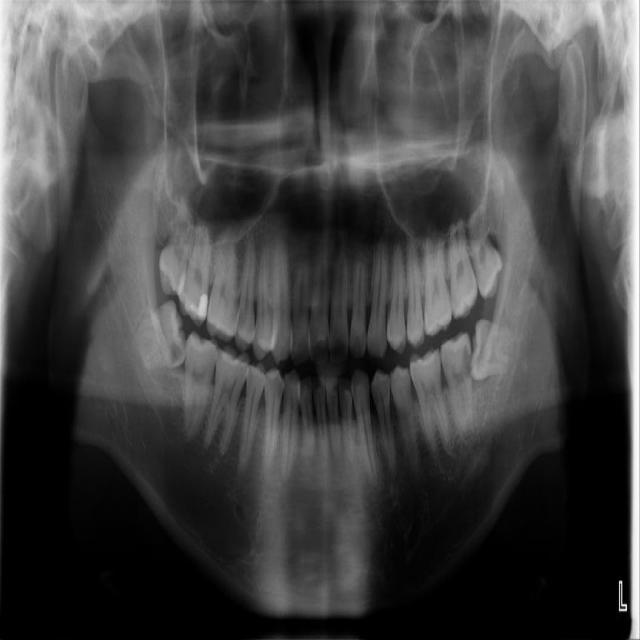3M ESPE Implant: (153, 206, 199, 298)
52: (176, 268, 210, 330)
73: (606, 523, 610, 529)
BioHorizons Implant: (446, 217, 480, 321)
BioLife Implant: (461, 203, 509, 302)
Biomet 3i Implant: (466, 317, 521, 388)
Blue Sky Bio Implant: (438, 329, 479, 442)
Caries: (175, 224, 216, 330)
Implant: (169, 330, 221, 442)
Keystone Dental Implant: (129, 297, 193, 378)
